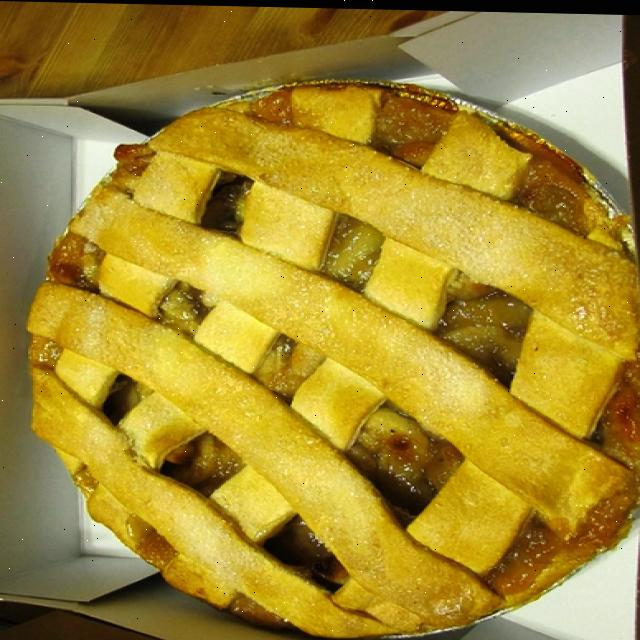炸货点心: (2, 24, 636, 640)
蛋糕甜品: (2, 24, 636, 640)
